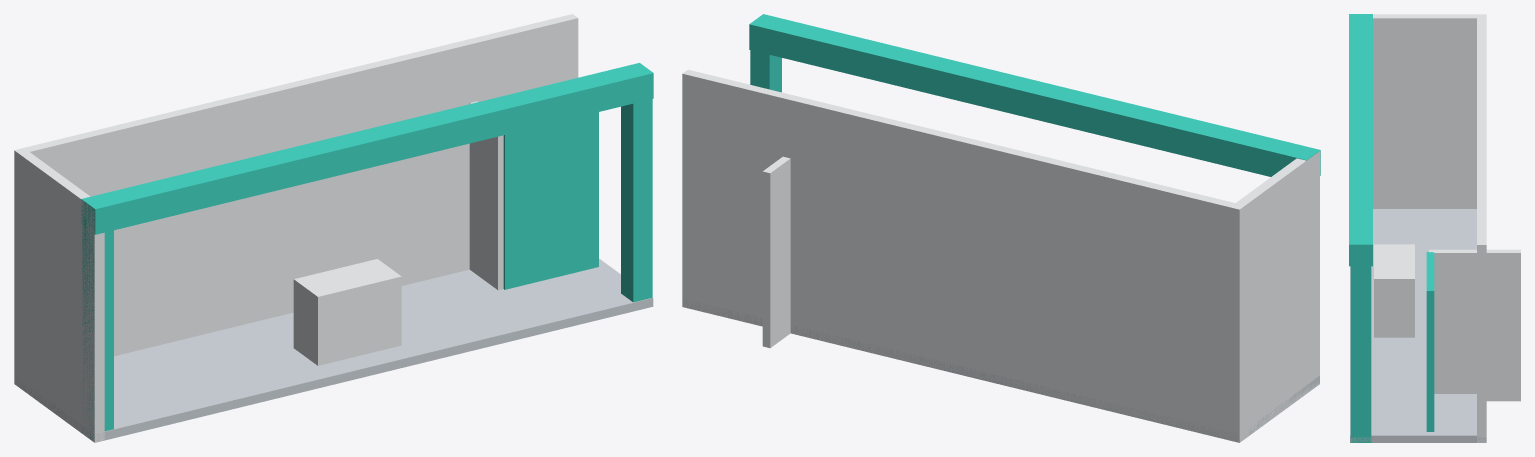
3 views of the same model, side by side, from view 1: azimuth 30°, elevation 25°; view 2: azimuth 150°, elevation 25°; view 3: azimuth 270°, elevation 25° (orthographic). The views are drawn at different scales.
Parts seen in each view (by area): view 1: Exhibition Booth Concept; view 2: Exhibition Booth Concept; view 3: Exhibition Booth Concept.
Part boxes in pixels (left/top/right/bottom): Exhibition Booth Concept: left=14, top=14, right=653, bottom=442; Exhibition Booth Concept: left=682, top=14, right=1320, bottom=442; Exhibition Booth Concept: left=1349, top=14, right=1520, bottom=442.
Bounding box in the file's own units: 8 × 3.2 × 2.52.
